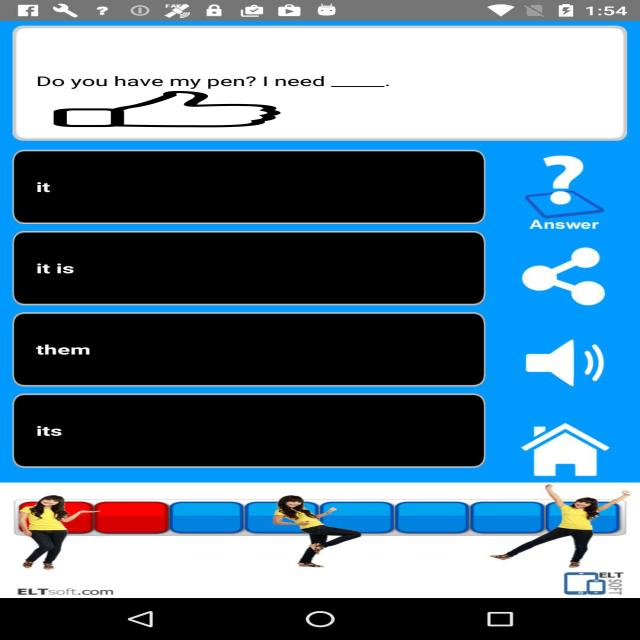privacy zuckering: (50, 91, 284, 127)
